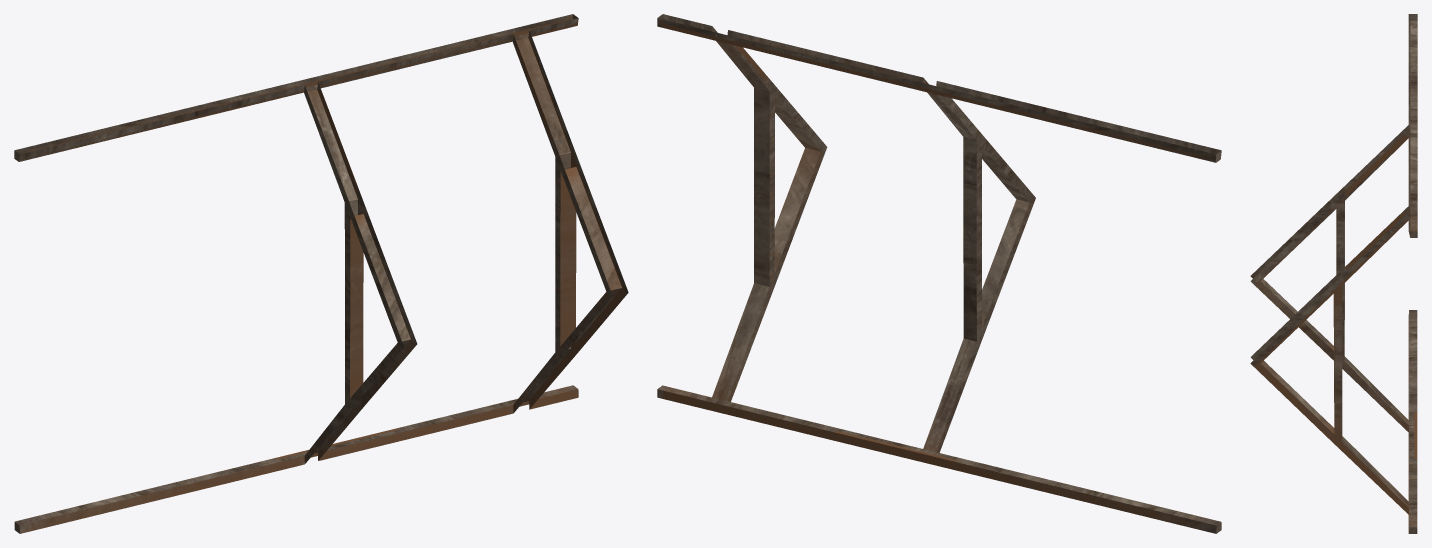
File: Frame.obj
3 renders of one model, left to right at view 1: azimuth 30°, elevation 25°; view 2: azimuth 150°, elevation 25°; view 3: azimuth 270°, elevation 25°, orthographic. The views are drawn at different scales.
Parts seen in each view (by area): view 1: polySurface146.151; view 2: polySurface146.151; view 3: polySurface146.151.
Boxes of the visible parts, x1=… form: polySurface146.151: x1=14, y1=14, x2=628, y2=533; polySurface146.151: x1=657, y1=14, x2=1221, y2=533; polySurface146.151: x1=1250, y1=14, x2=1417, y2=533.
Size of the model in its own units: 39.01 by 25.32 by 12.69.
Materials: 1 (1 with a texture image).
